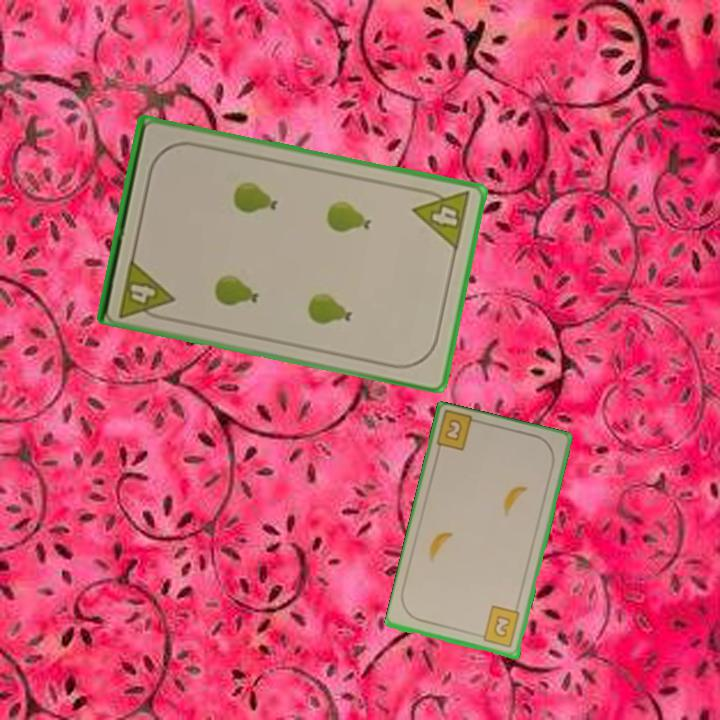2b: (474, 603, 523, 651), (441, 416, 465, 444)
4p: (409, 183, 473, 253), (115, 254, 177, 324)
